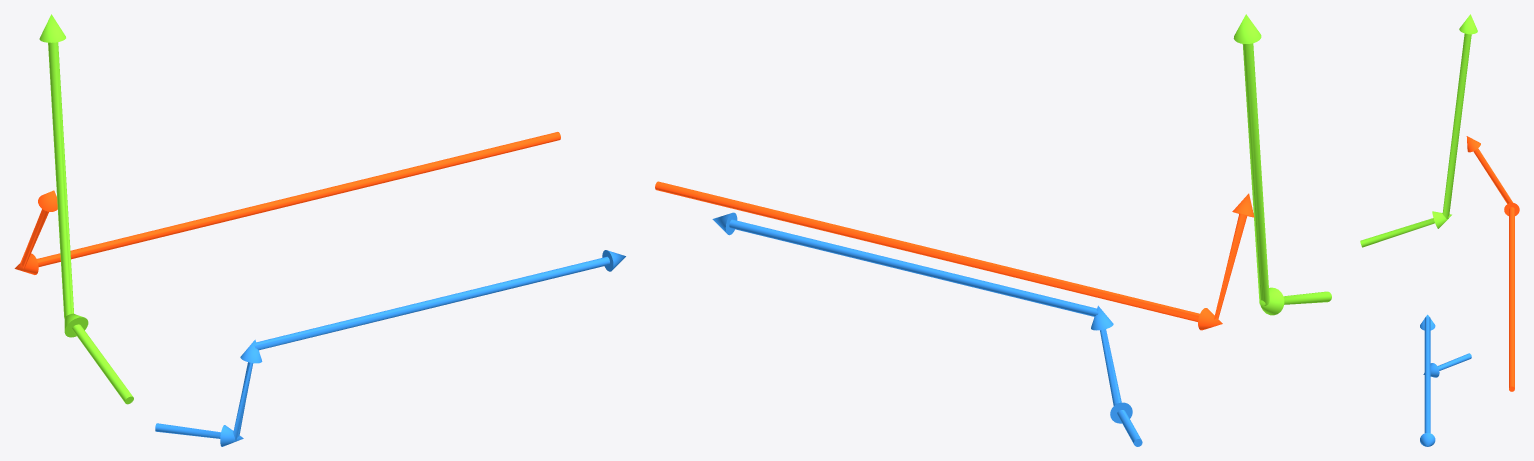
Rendered from cooling_water_distribution_system_flow.glb.
3 views of the same model, side by side, from view 1: azimuth 30°, elevation 25°; view 2: azimuth 150°, elevation 25°; view 3: azimuth 270°, elevation 25° (orthographic). The views are drawn at different scales.
Parts seen in each view (by area): view 1: return, supply, tower_air; view 2: return, supply, tower_air; view 3: tower_air, return, supply.
Part boxes in pixels (bbox=[...]): return: bbox=[14, 132, 560, 274]; supply: bbox=[155, 250, 625, 446]; tower_air: bbox=[39, 14, 133, 404]; return: bbox=[655, 181, 1254, 330]; supply: bbox=[712, 212, 1142, 446]; tower_air: bbox=[1233, 14, 1331, 315]; tower_air: bbox=[1360, 14, 1477, 247]; return: bbox=[1466, 136, 1519, 391]; supply: bbox=[1420, 314, 1471, 446].
Size of the model in its own units: 3.73 by 2.87 by 1.33.
